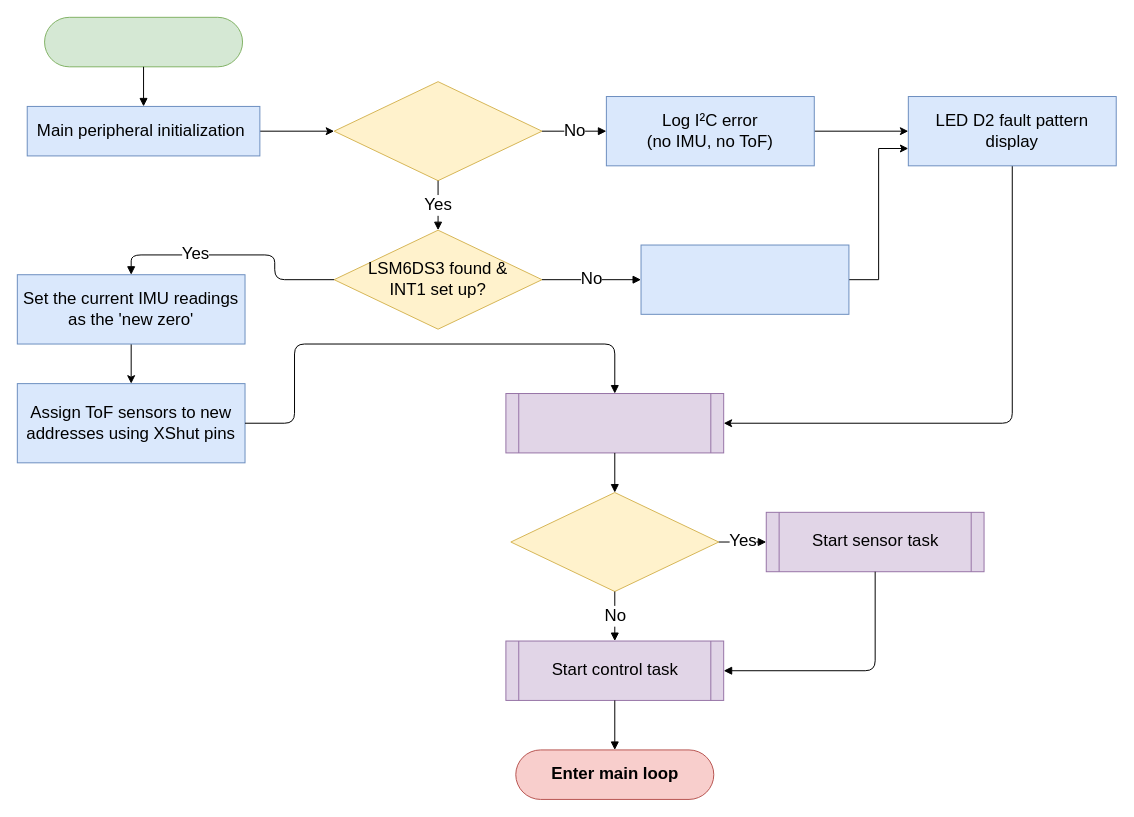
This 1134x817 diagram has some shape labels left out. Here are the shapes that lost their labels. From the top down, the centre of each, then its label:
At point 143,41: "Power on".
At point 437,131: "I²C bus init OK?".
At point 744,279: "IMU not ready".
At point 614,423: "Start edge sensor task".
At point 614,542: "Any ToF sensor initialised?".
